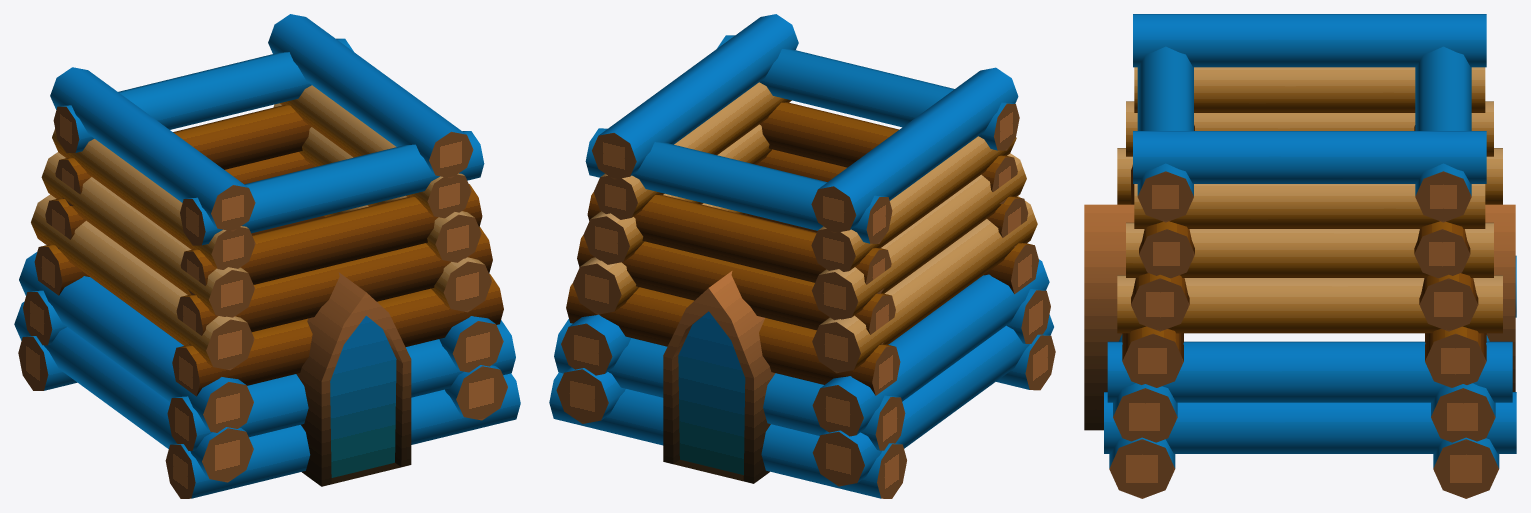
The model's file is TowerLv3Phase1.fbx.
The picture shows the model from 3 angles, left to right: view 1: azimuth 30°, elevation 25°; view 2: azimuth 150°, elevation 25°; view 3: azimuth 270°, elevation 25°; orthographic projection. The views are drawn at different scales.
Visible parts, largest first — view 1: tower_lvl3; view 2: tower_lvl3; view 3: tower_lvl3.
Boxes of the visible parts, left/top/right/bottom form: tower_lvl3: left=14, top=14, right=520, bottom=498; tower_lvl3: left=549, top=14, right=1055, bottom=498; tower_lvl3: left=1084, top=14, right=1516, bottom=498.
Bounding box in the file's own units: 23.53 × 21.11 × 24.65.
